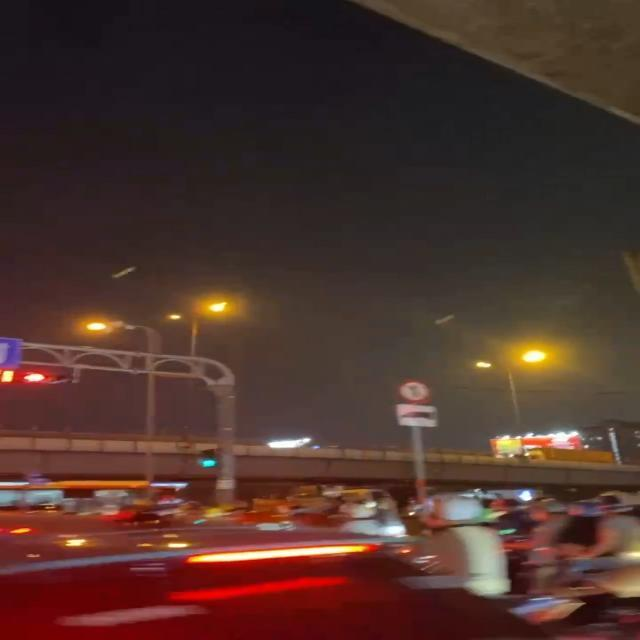136-cam-di-thang: (394, 378, 431, 404)
